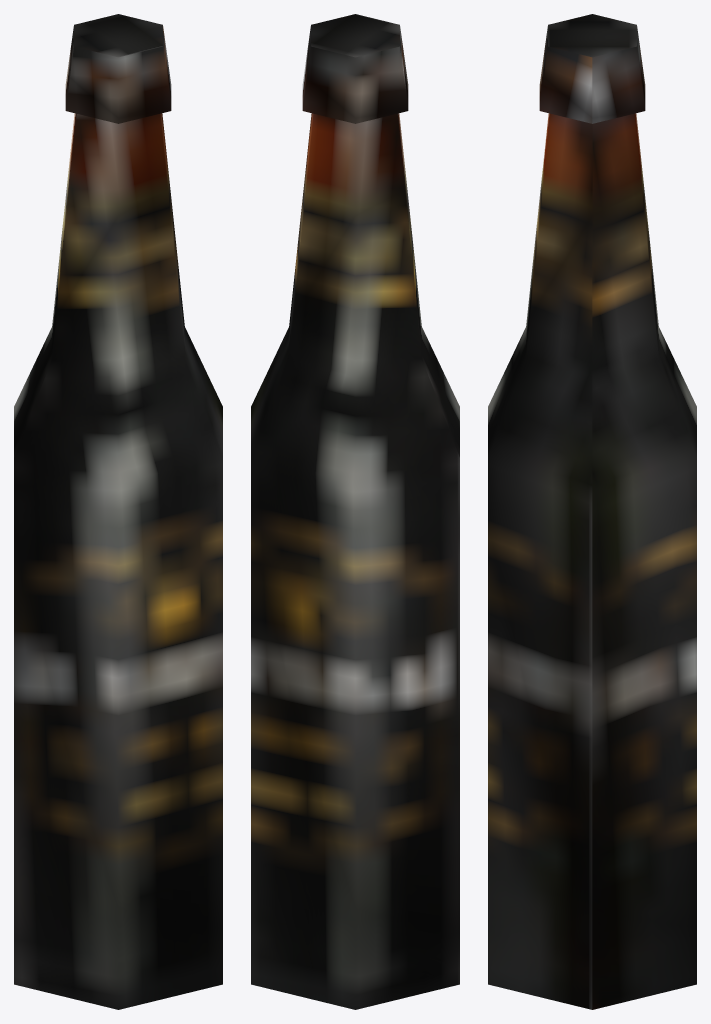
File: BeerV3.fbx
3 renders of one model, left to right at view 1: azimuth 30°, elevation 25°; view 2: azimuth 150°, elevation 25°; view 3: azimuth 270°, elevation 25°, orthographic.
Visible parts, largest first — view 1: Beer&Wine.018; view 2: Beer&Wine.018; view 3: Beer&Wine.018.
Part boxes in pixels (<box>): Beer&Wine.018: <box>14,14,222,1009</box>; Beer&Wine.018: <box>251,14,459,1009</box>; Beer&Wine.018: <box>488,14,696,1009</box>.
Size of the model in its own units: 0.077 by 0.3255 by 0.0667.
